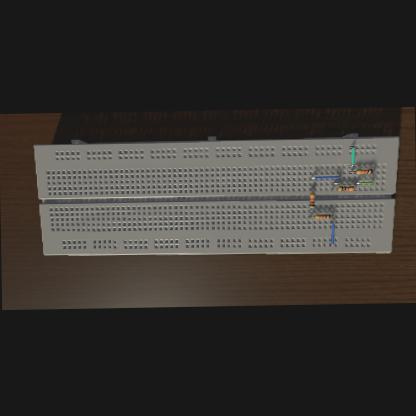breadboard: (34, 133, 400, 259)
resistor: (309, 192, 315, 208), (337, 186, 354, 190), (315, 214, 331, 218), (356, 170, 373, 173)
wire: (349, 146, 355, 167), (329, 221, 334, 245), (309, 176, 340, 178), (353, 182, 374, 184), (308, 208, 312, 210), (349, 171, 356, 172), (309, 190, 312, 192), (308, 216, 314, 217), (374, 170, 375, 172), (331, 216, 333, 217), (332, 184, 340, 184)
